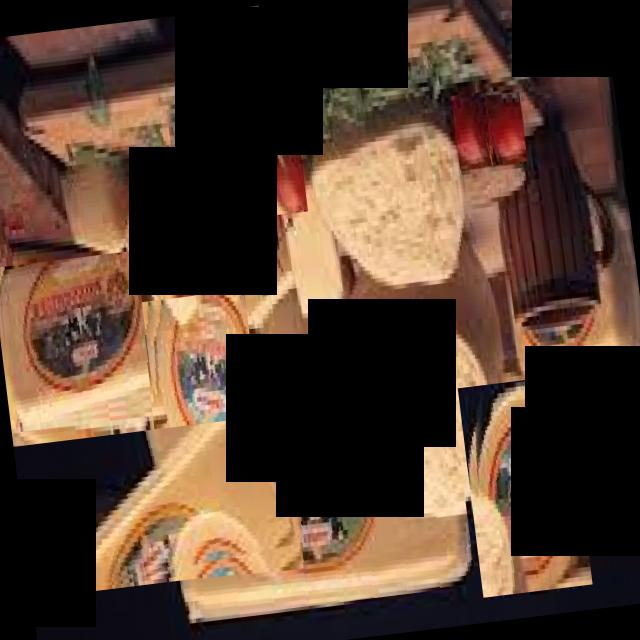cheese: (165, 404, 476, 620), (13, 414, 300, 598), (457, 374, 592, 598), (0, 249, 155, 432), (138, 289, 266, 483), (564, 364, 640, 539)
tomatoes: (238, 150, 280, 252), (450, 92, 492, 168), (486, 91, 527, 165), (270, 150, 308, 214)
